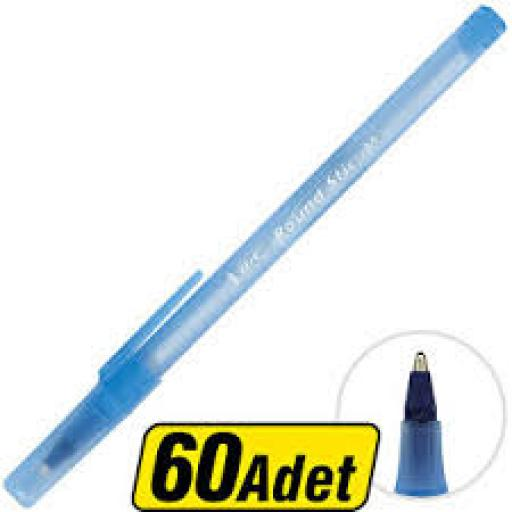tukenmez-kalem: (0, 138, 355, 498), (374, 326, 478, 506)
